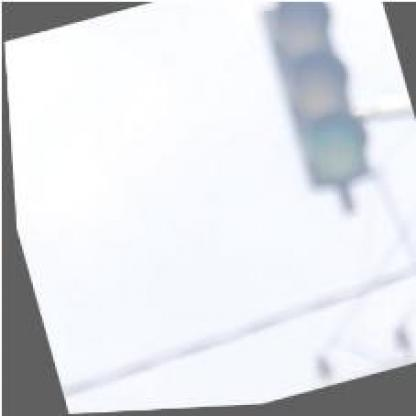green: (256, 0, 374, 198)
